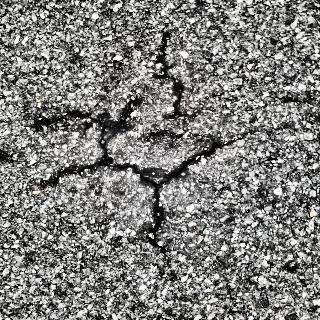crack: (18, 97, 245, 254), (147, 34, 190, 117)
